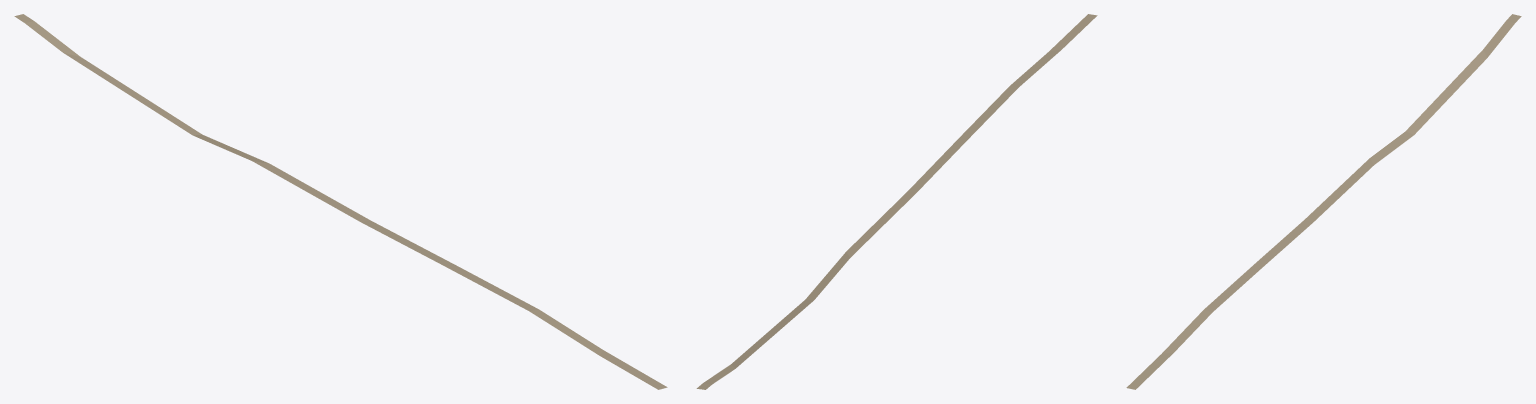
File: farm_12_2_track.glb
The picture shows the model from 3 angles, left to right: view 1: azimuth 30°, elevation 25°; view 2: azimuth 150°, elevation 25°; view 3: azimuth 330°, elevation 25°; orthographic projection. The views are drawn at different scales.
Parts seen in each view (by area): view 1: geometry_0; view 2: geometry_0; view 3: geometry_0.
Part boxes in pixels (x1,y1,x2,y2): geometry_0: (14,14,667,389); geometry_0: (696,14,1097,389); geometry_0: (1126,14,1521,389).
Bounding box in the file's own units: 37.02 × 6.12 × 307.
